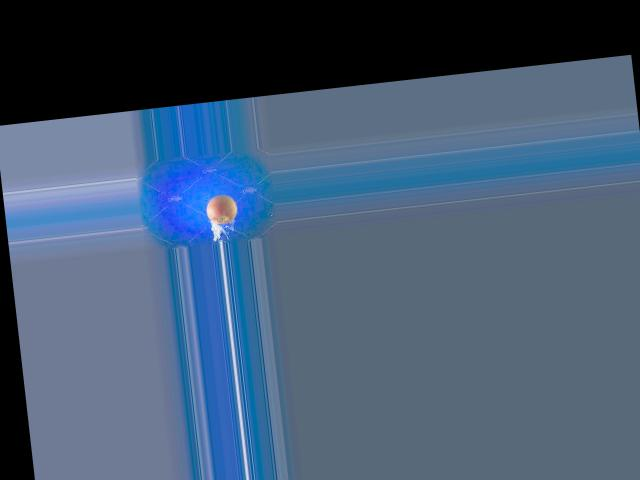tomato: (205, 193, 239, 225)
